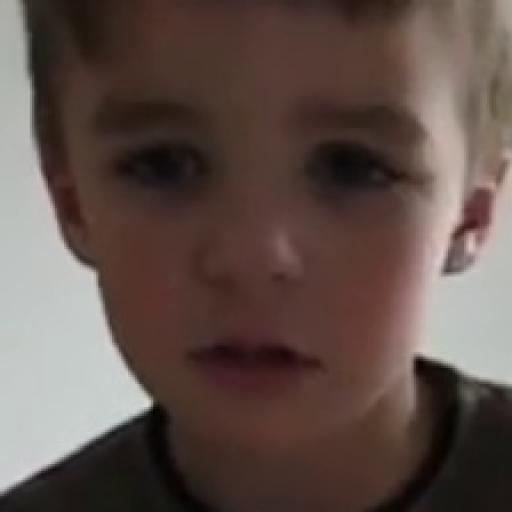Autism: (48, 17, 471, 445)
